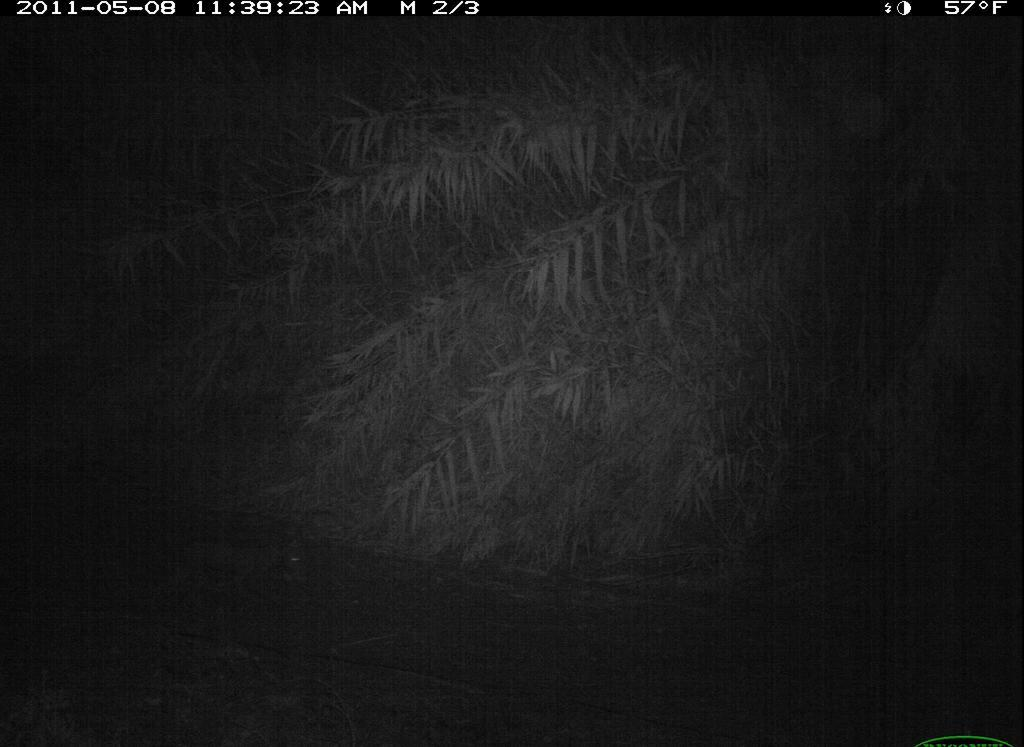coyote: (146, 515, 301, 605)
